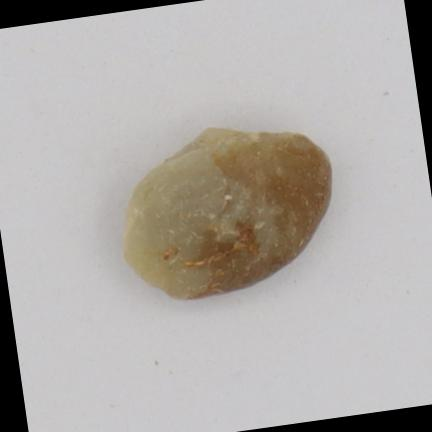cut: (125, 128, 331, 297)
